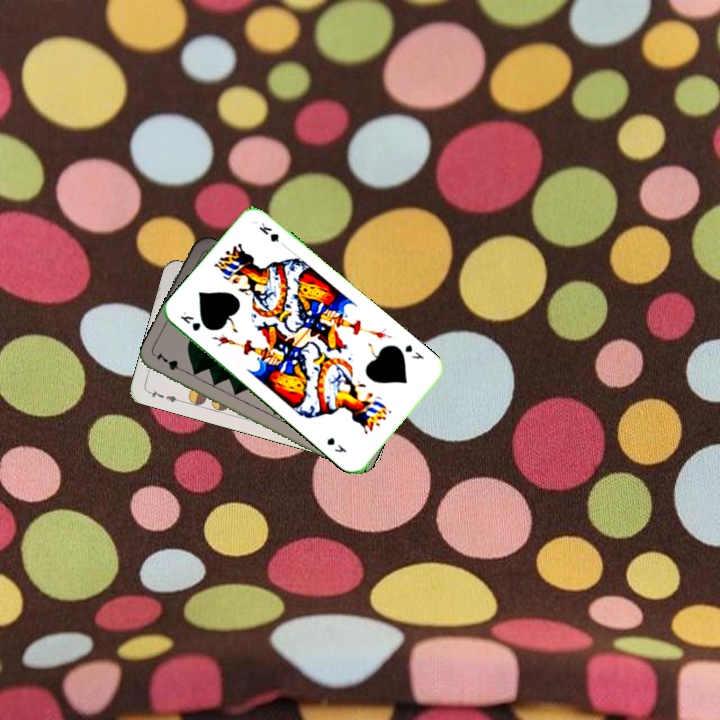E7: (144, 386, 184, 405)
G7: (153, 351, 191, 376)
GK: (176, 307, 203, 334), (401, 341, 427, 362)
